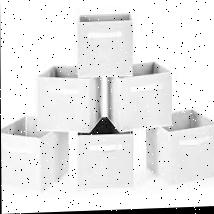cube: (145, 111, 214, 186), (108, 61, 172, 133), (37, 66, 100, 134), (76, 14, 134, 81), (76, 131, 132, 189)
